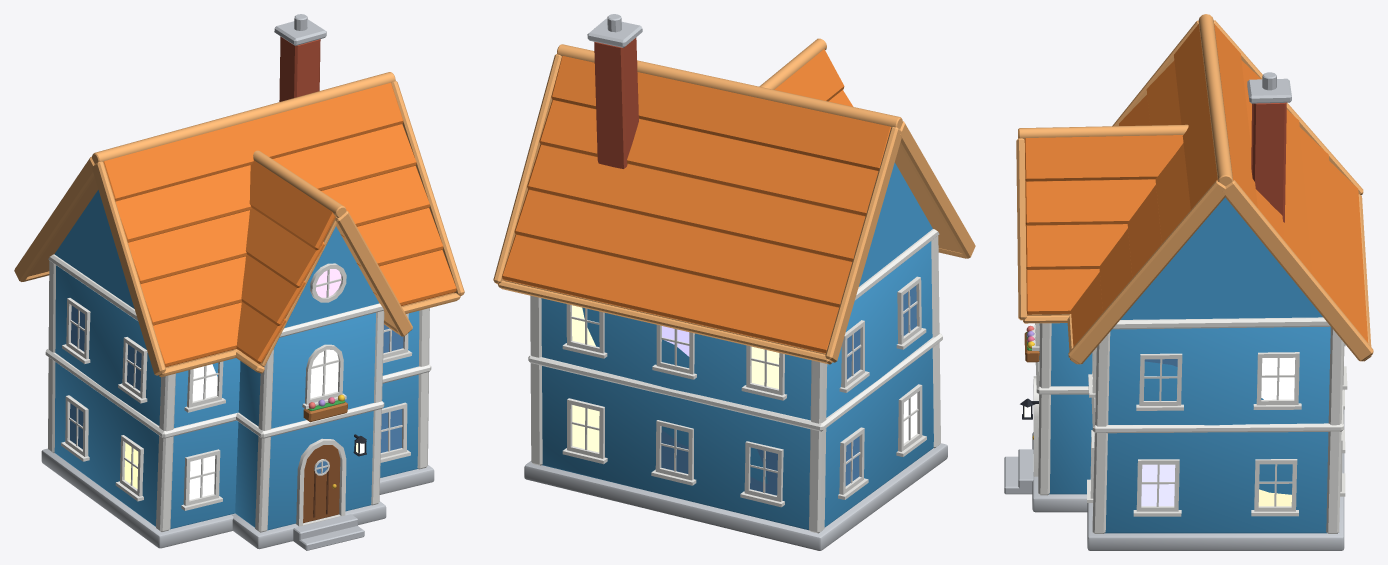
The model's file is casa_torta_empena_azul.glb.
3 renders of one model, left to right at view 1: azimuth 30°, elevation 25°; view 2: azimuth 150°, elevation 25°; view 3: azimuth 270°, elevation 25°, orthographic. The views are drawn at different scales.
Parts seen in each view (by area): view 1: casa_torta_empena_azul; view 2: casa_torta_empena_azul; view 3: casa_torta_empena_azul.
Boxes of the visible parts, x1,y1,x2,y2 form: casa_torta_empena_azul: (14,14,464,550); casa_torta_empena_azul: (493,14,975,550); casa_torta_empena_azul: (1004,14,1373,550).
Bounding box in the file's own units: 10.79 × 13.55 × 10.05.
8 materials, 1 textured.
